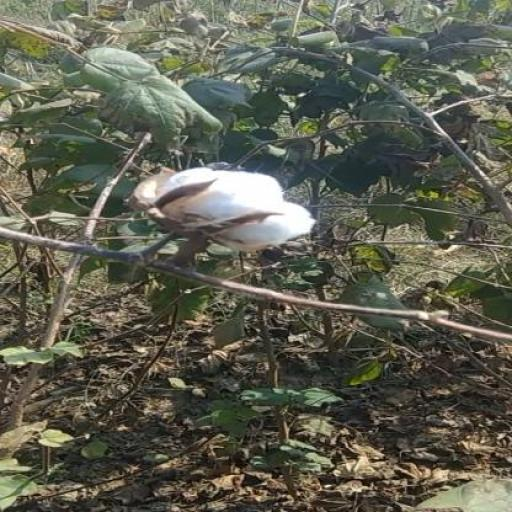cotton_ready: (101, 145, 321, 277)
